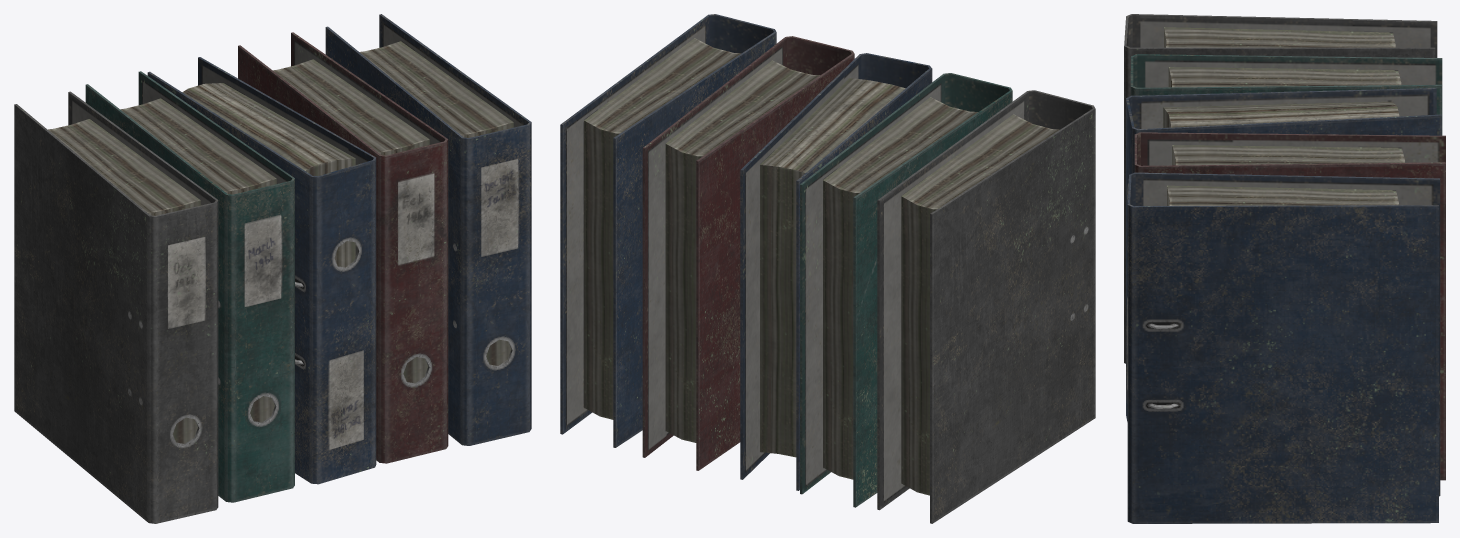
The model's file is FolderSet01.fbx.
3 views of the same model, side by side, from view 1: azimuth 30°, elevation 25°; view 2: azimuth 150°, elevation 25°; view 3: azimuth 270°, elevation 25° (orthographic). The views are drawn at different scales.
Visible parts, largest first — view 1: FolderSet01; view 2: FolderSet01; view 3: FolderSet01.
Boxes of the visible parts, left/top/right/bottom form: FolderSet01: left=14, top=14, right=531, bottom=523; FolderSet01: left=560, top=14, right=1095, bottom=523; FolderSet01: left=1124, top=14, right=1445, bottom=523.
Bounding box in the file's own units: 42.4 × 32 × 29.45.
